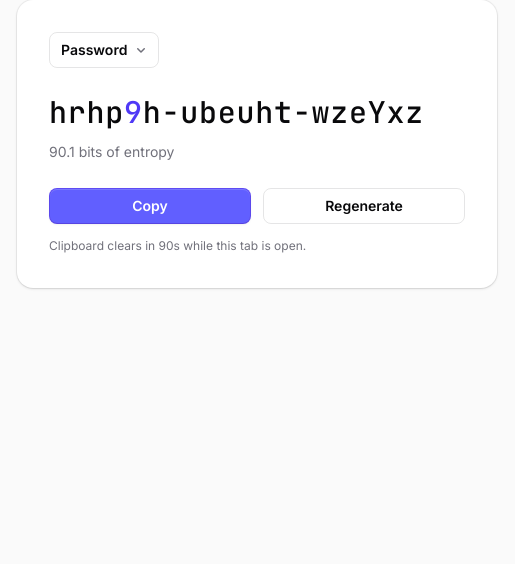
Test: GeneratorCard — Custom Password and Memorable controls › shows the Memorable word count and separator controls at their defaults
This screenshot has width=515, height=564.
What coordinates should you click on to do the following:
click the button with aria-label "Format:"
I would click on:
 (104, 50)
Its box is [49, 32, 159, 68].
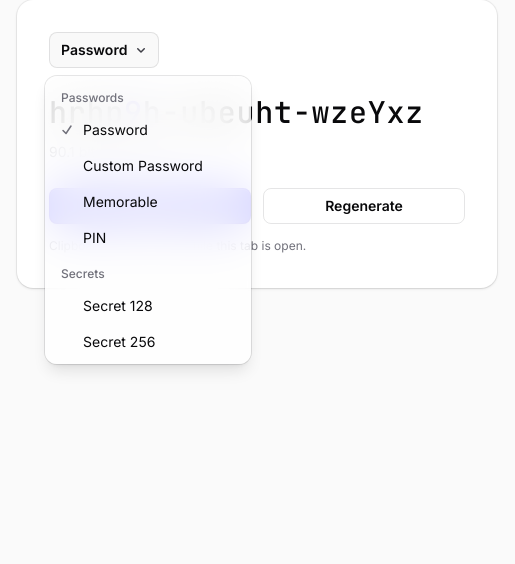
What coordinates should you click on to do the following:
click the menu item "Memorable"
I would click on:
 (148, 202)
Its box is [49, 184, 247, 220].
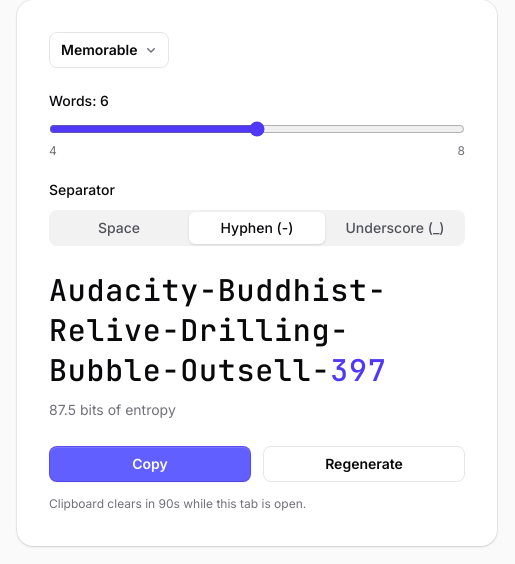
Check: the slider labelled "Words" holds "6", box [49, 121, 465, 137]
Check: the text "Words: 6" is shown, box [49, 92, 109, 109]
Check: the element named "Separator" is shown, box [49, 210, 465, 246]
